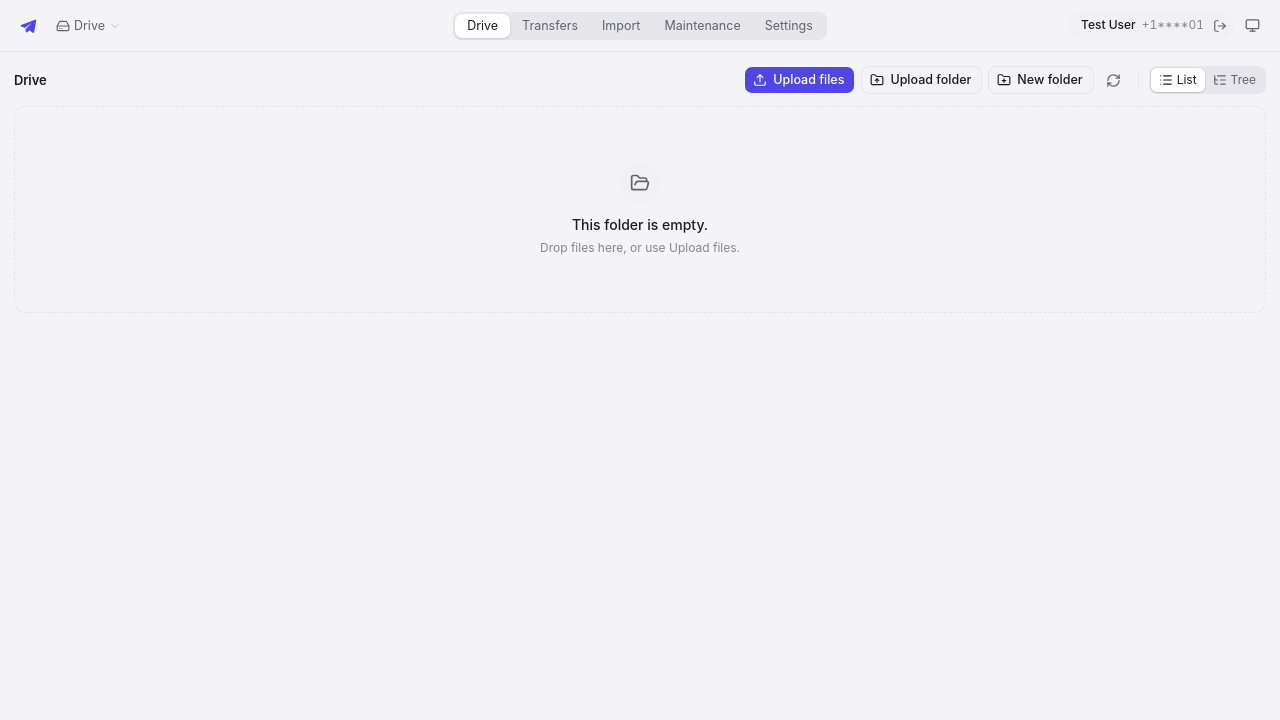
Test: repairing a single file requires its path
Expected: the tab "Drive" is shown, [455,14,510,38]
Press the mouse on the tab "Maintenance": (703, 26) [652,14,753,38]
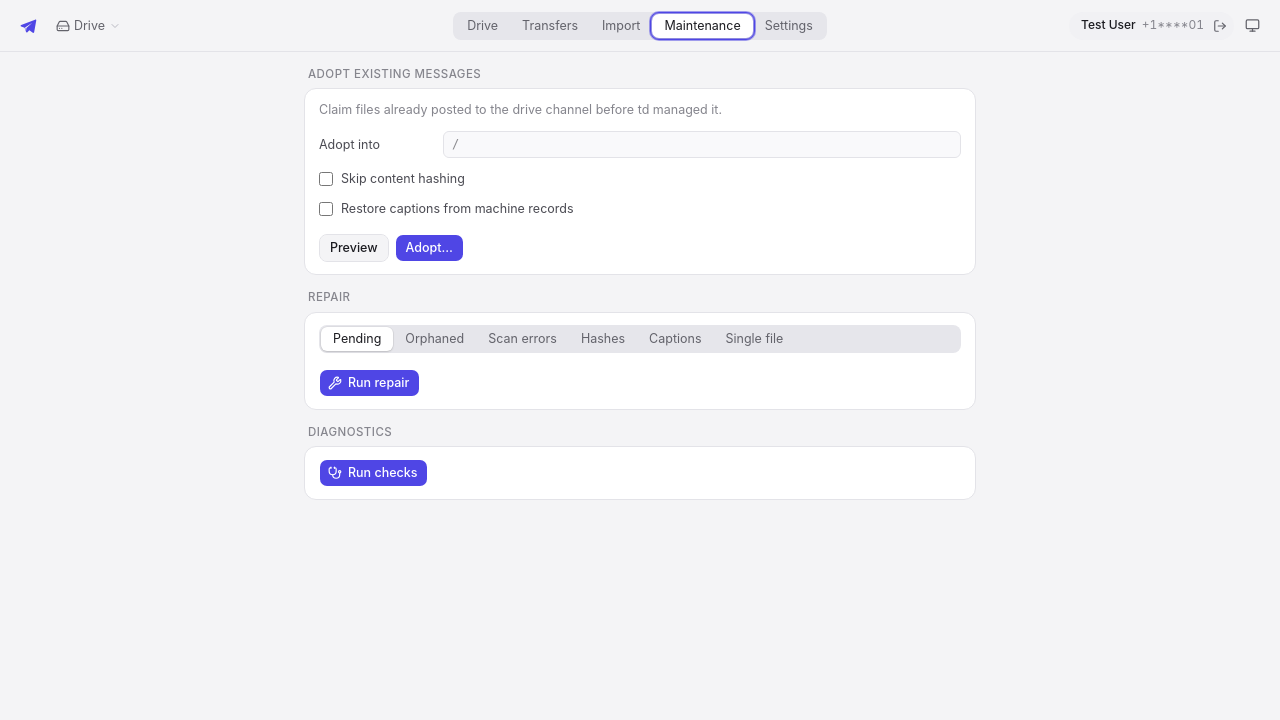
Expected: the heading "Adopt existing messages" is shown, [308,67,481,81]
Click the button "Single file": (754, 338) [714,326,795,350]
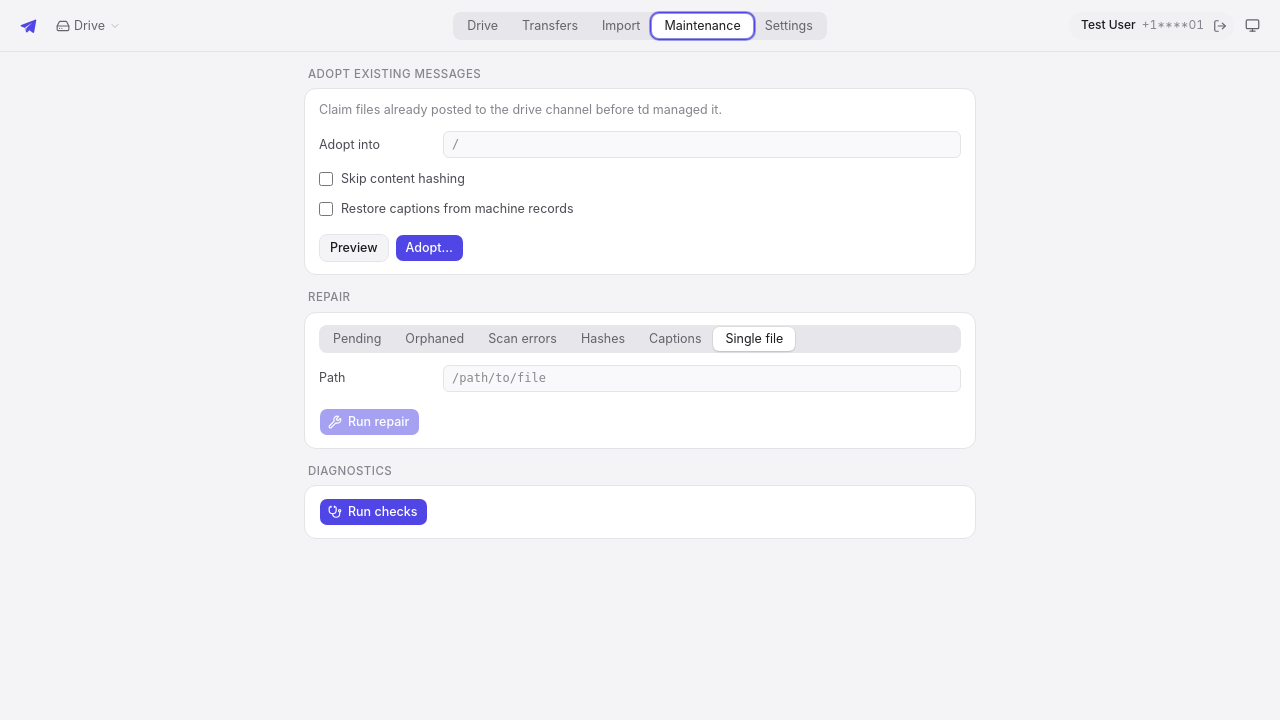
Expected: the button "Run repair" is disabled, [319,408,420,436]
In the field labelled "Path": (702, 378) [443,364,961,392], type "/notes.txt"
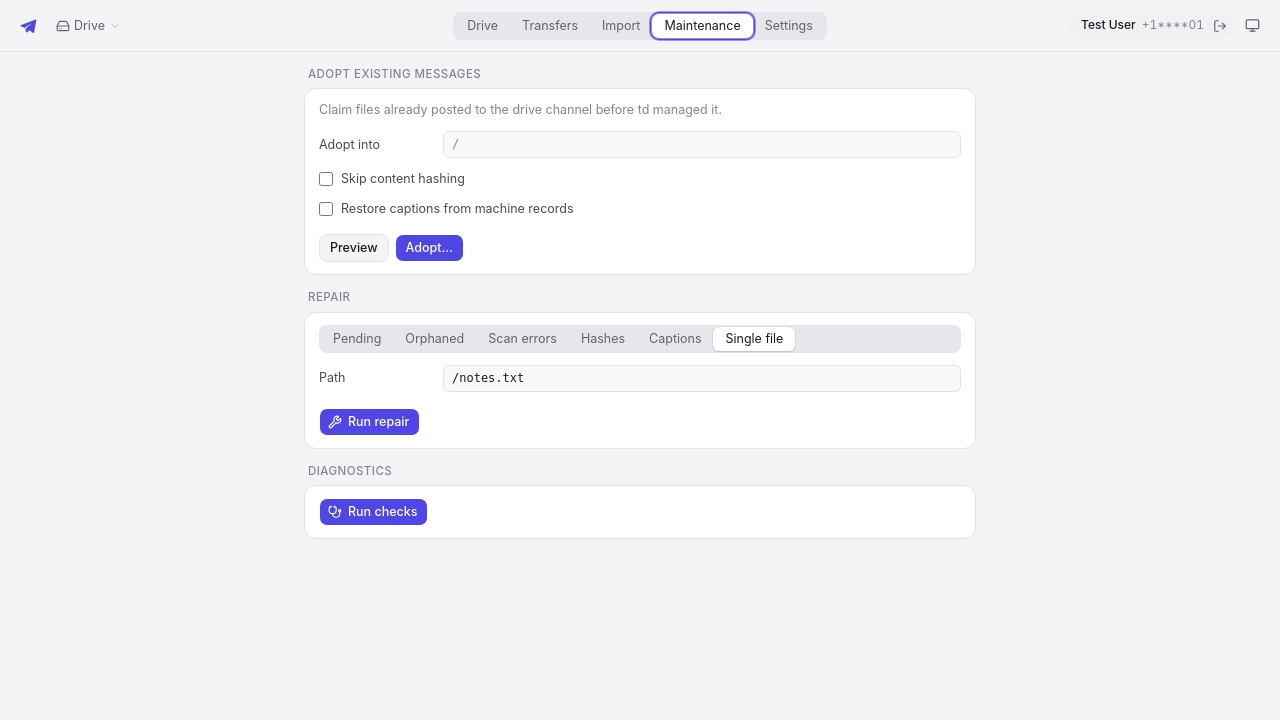
Expected: the button "Run repair" is enabled, [319,408,420,436]
